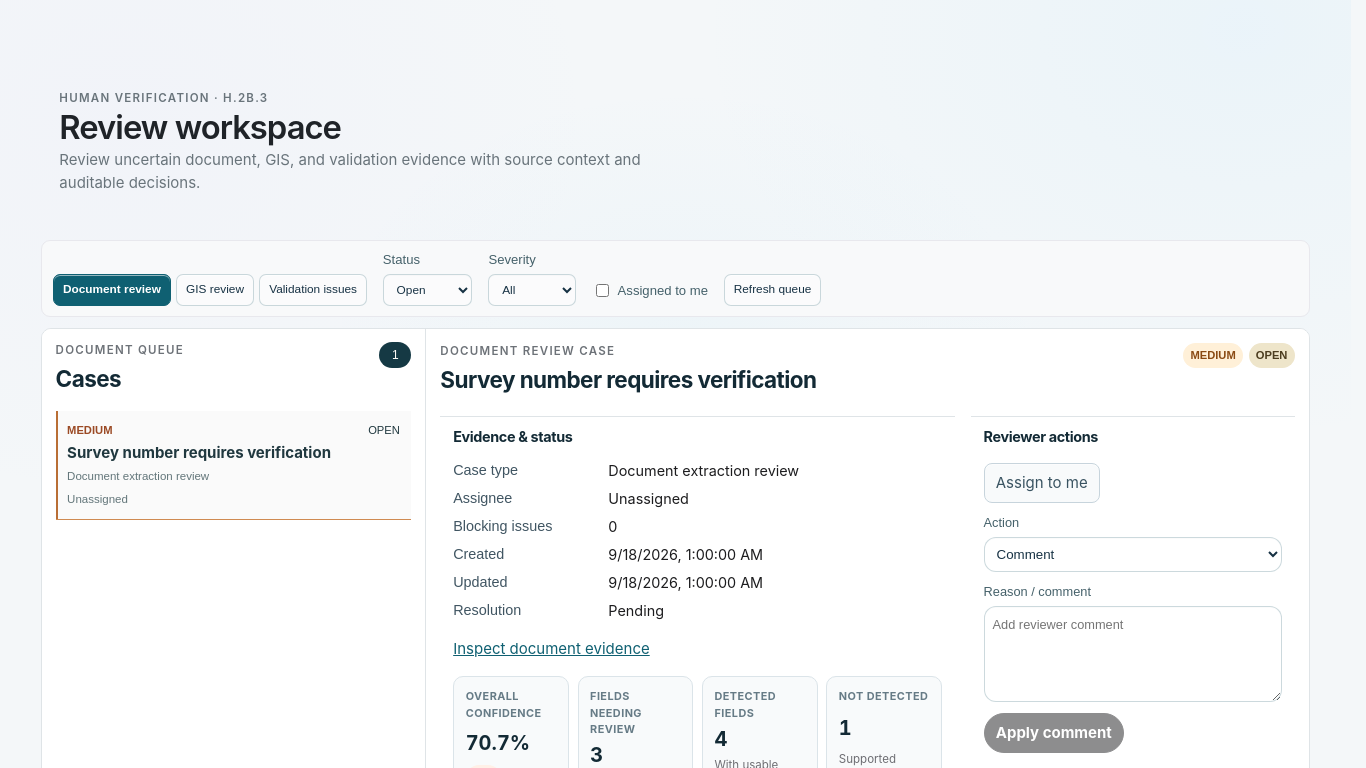
Test: ReviewPage › switches between document and GIS queues and exposes GIS evidence navigation
This screenshot has width=1366, height=768.
Expected: the text "Survey number requires verification" is shown, [67,443,331,462]
Click the tab "GIS review" at (215, 290), box [176,274,254,306]
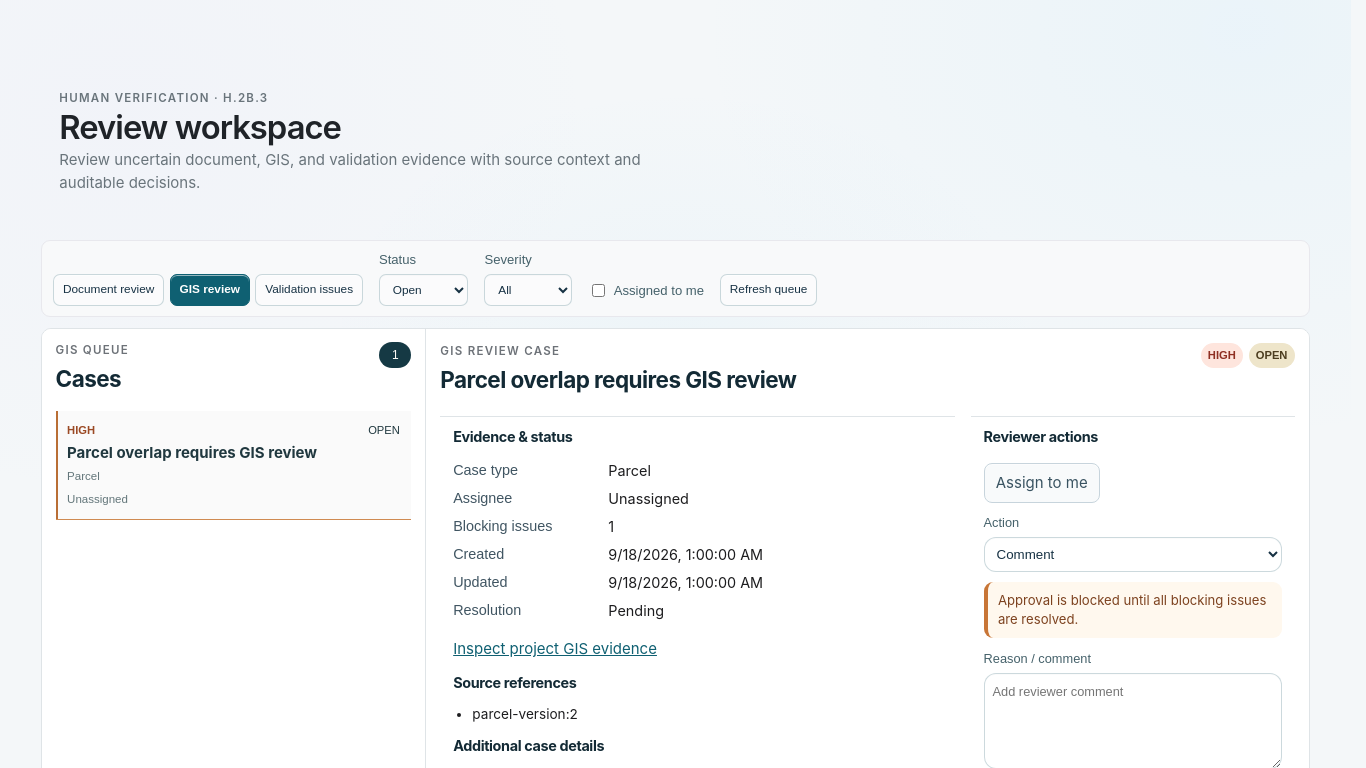
Expected: the text "Parcel overlap requires GIS review" is shown, [67,443,317,462]
Expected: the list item "parcel-version:2" is shown, [472,706,578,722]
Expected: the text "Approval is blocked until all blocking issues are resolved." is shown, [984,582,1282,638]
